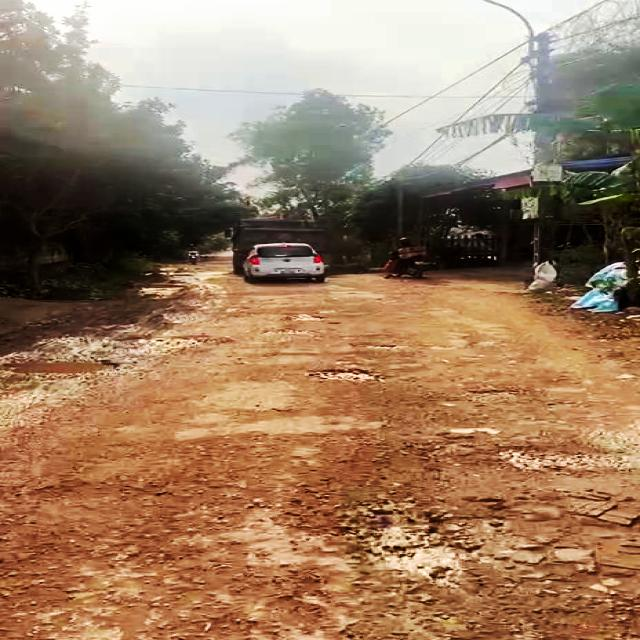pothole: (336, 487, 640, 640), (488, 445, 634, 479), (0, 356, 127, 376), (306, 366, 386, 383)
